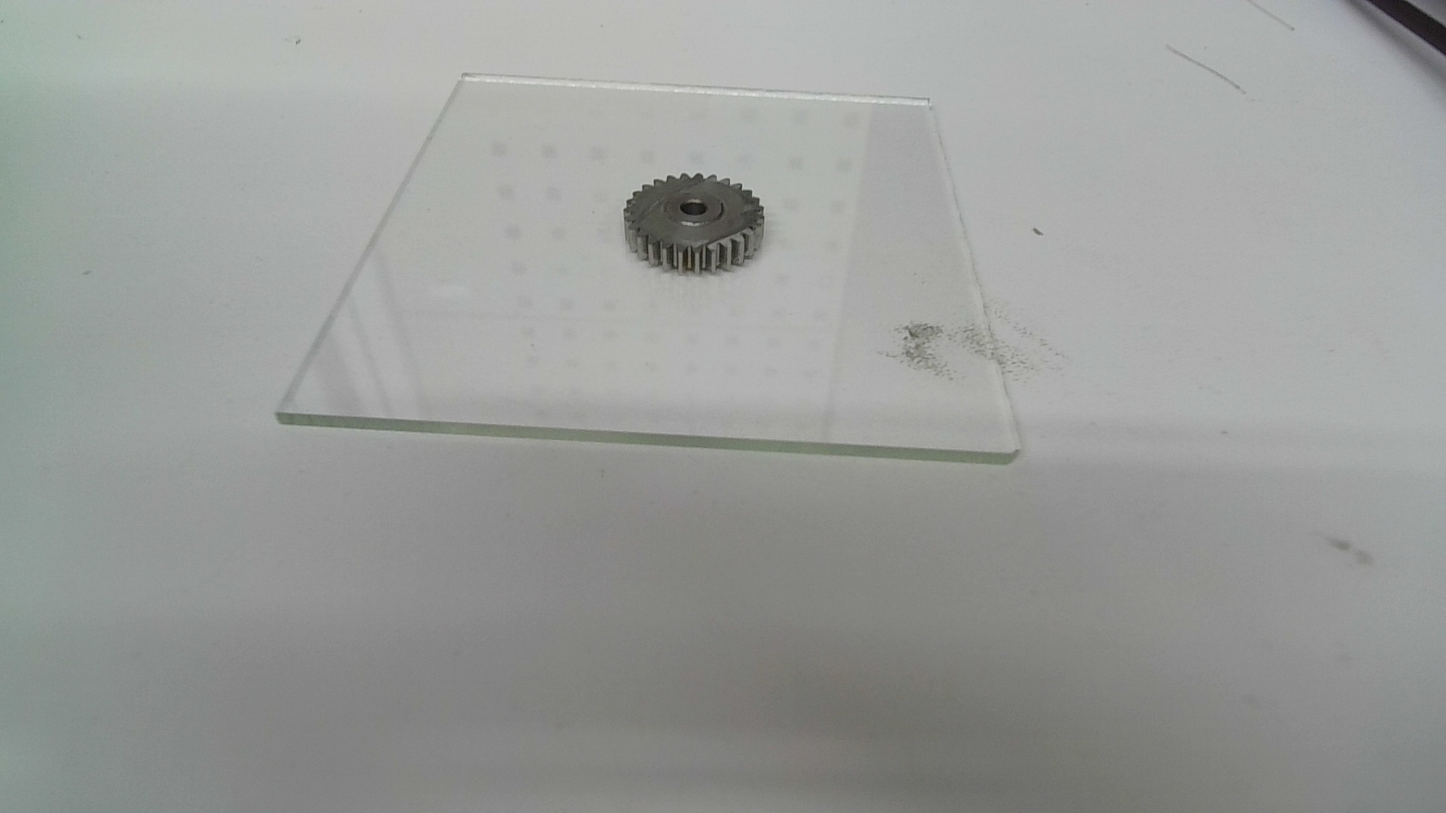gear: (620, 170, 767, 275)
